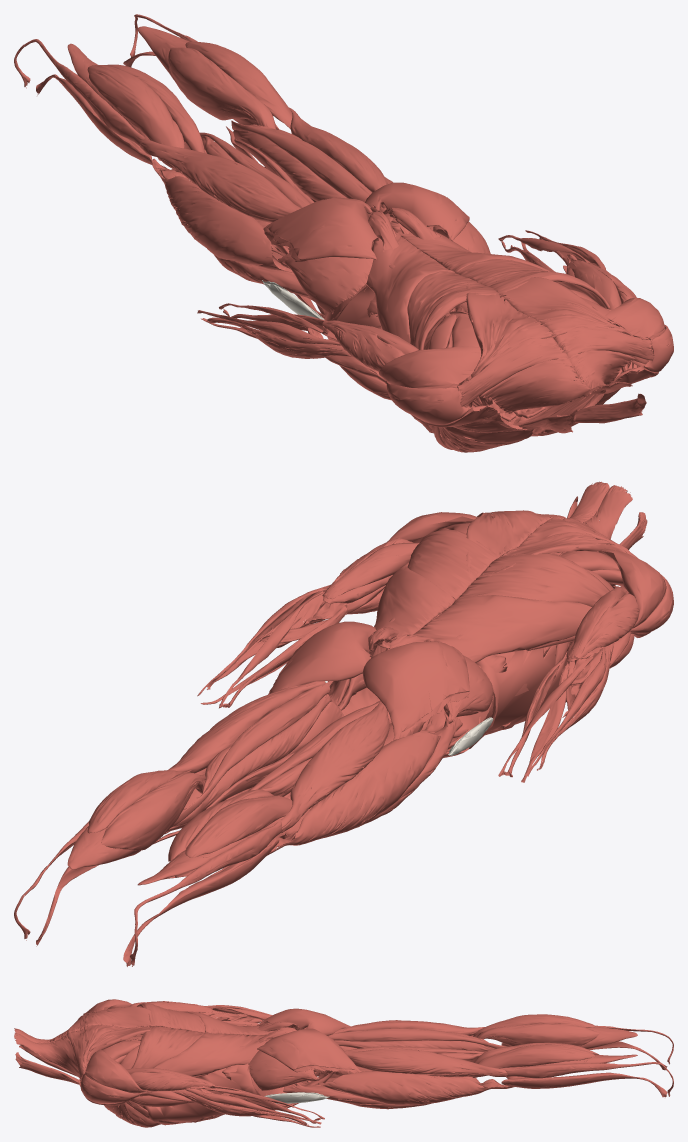
Rendered from anatomy-v2.glb.
3 renders of one model, top to bottom at view 1: azimuth 30°, elevation 25°; view 2: azimuth 150°, elevation 25°; view 3: azimuth 270°, elevation 25°, orthographic. The views are drawn at different scales.
Visible parts, largest first — view 1: right latissimus dorsi, right gluteus maximus, right vastus lateralis, long head of right biceps femoris, left latissimus dorsi, medial head of left gastrocnemius, descending part of right trapezius, lateral head of right gastrocnemius, ascending part of left trapezius, ascending part of right trapezius, spinal part of right deltoid, right gluteus medius (+38 smaller); view 2: right latissimus dorsi, left latissimus dorsi, right gluteus maximus, right vastus lateralis, long head of right biceps femoris, left gluteus maximus, medial head of left gastrocnemius, right external oblique, lateral head of right gastrocnemius, long head of left biceps femoris, left semimembranosus, left semitendinosus (+34 smaller); view 3: left latissimus dorsi, left vastus lateralis, left gluteus maximus, long head of left biceps femoris, left external oblique, medial head of right gastrocnemius, right latissimus dorsi, lateral head of left gastrocnemius, right semitendinosus, left gluteus medius, spinal part of left deltoid, left tibialis anterior (+44 smaller).
Part boxes in pixels (x1,y1,x2,y2): right latissimus dorsi: (366, 229, 500, 349); right gluteus maximus: (263, 197, 379, 261); right vastus lateralis: (152, 159, 292, 272); long head of right biceps femoris: (139, 139, 300, 222); left latissimus dorsi: (391, 221, 609, 308); medial head of left gastrocnemius: (168, 47, 276, 129); descending part of right trapezius: (480, 357, 609, 413); lateral head of right gastrocnemius: (87, 65, 184, 172); ascending part of left trapezius: (473, 276, 633, 338); ascending part of right trapezius: (466, 281, 554, 377); spinal part of right deltoid: (379, 346, 482, 388); right gluteus medius: (278, 253, 373, 314); right latissimus dorsi: (389, 553, 609, 662); left latissimus dorsi: (374, 529, 500, 648); right gluteus maximus: (363, 641, 469, 740); right vastus lateralis: (267, 732, 440, 855); long head of right biceps femoris: (281, 701, 389, 833); left gluteus maximus: (268, 621, 376, 694); medial head of left gastrocnemius: (101, 772, 204, 850); right external oblique: (468, 645, 567, 749); lateral head of right gastrocnemius: (185, 795, 292, 857); long head of left biceps femoris: (167, 681, 325, 773); left semimembranosus: (173, 694, 331, 826); left semitendinosus: (171, 682, 330, 827); left latissimus dorsi: (131, 1025, 270, 1077); left vastus lateralis: (318, 1071, 513, 1104); left gluteus maximus: (257, 1028, 361, 1075); long head of left biceps femoris: (345, 1048, 507, 1076); left external oblique: (142, 1063, 275, 1125); medial head of right gastrocnemius: (477, 1023, 599, 1046); right latissimus dorsi: (137, 1002, 274, 1034); lateral head of left gastrocnemius: (472, 1044, 595, 1077); right semitendinosus: (328, 1028, 506, 1048); left gluteus medius: (249, 1050, 316, 1090); spinal part of left deltoid: (85, 1049, 148, 1093); left tibialis anterior: (501, 1072, 667, 1097).
Bounding box in the file's own units: 561 × 244 × 1559.
